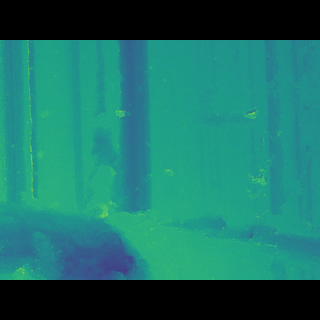Loch: (0, 183, 320, 250), (170, 97, 320, 140), (77, 79, 130, 197), (14, 124, 68, 166)
